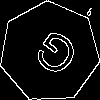G: (24, 27, 83, 87)
